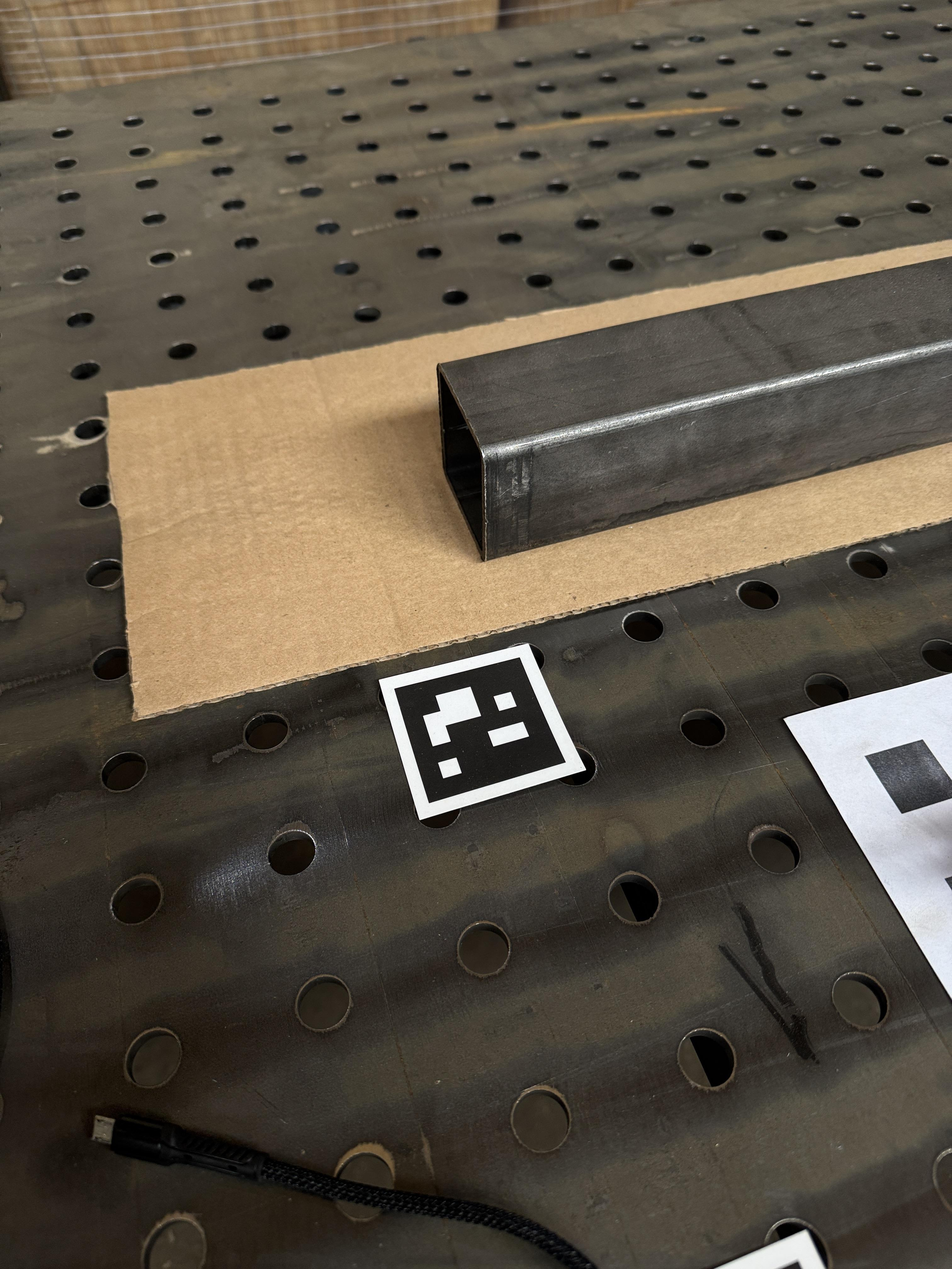detail: (435, 255, 952, 562)
